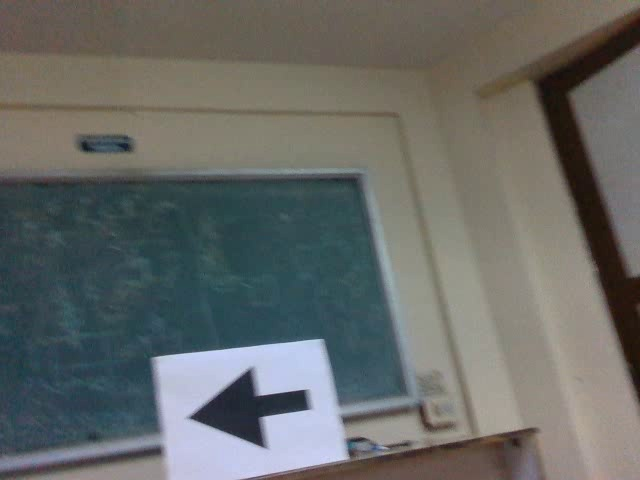Left: (183, 363, 317, 455)
